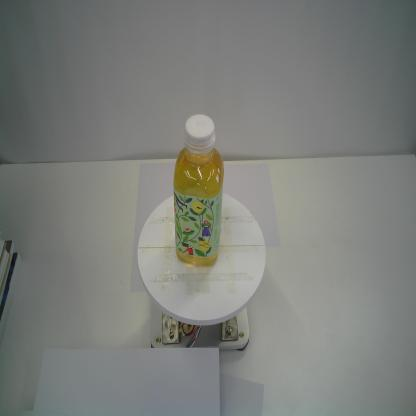Drink: (172, 112, 225, 266)
